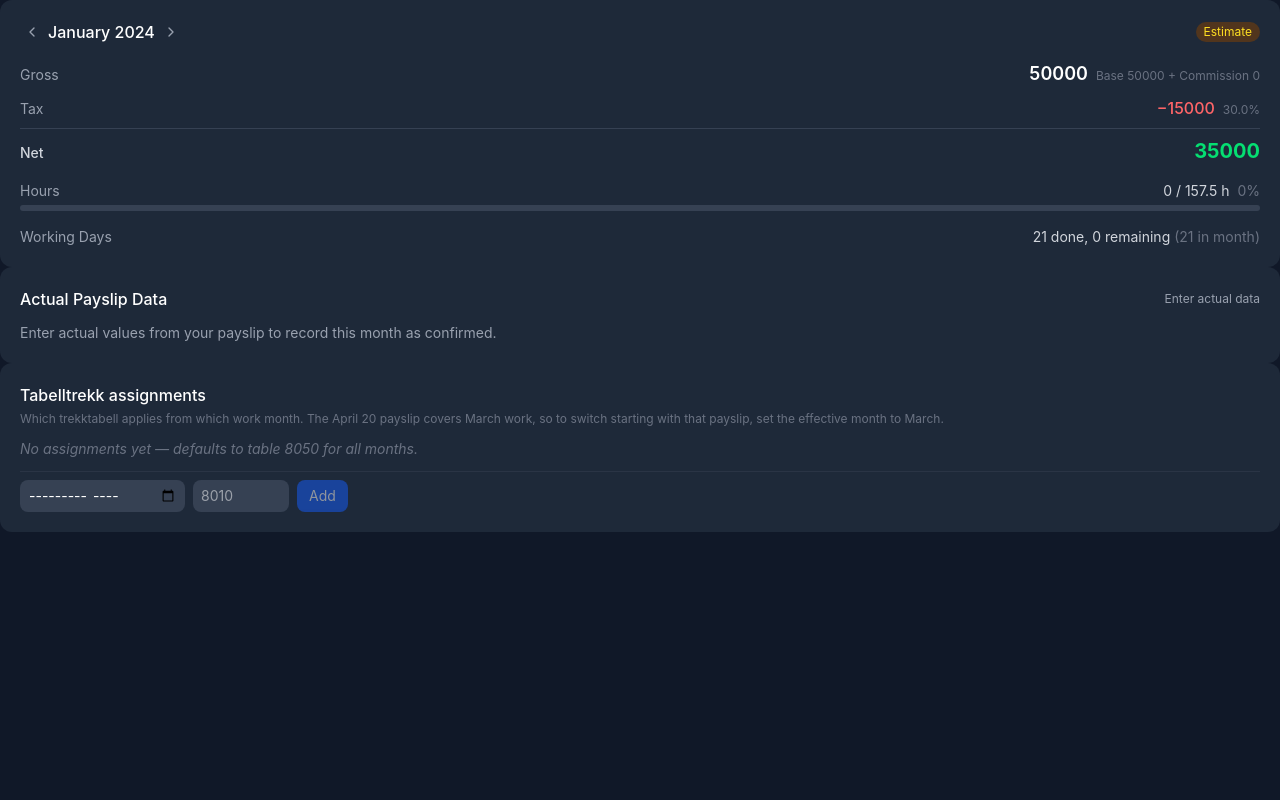
Test: MonthView override decimal input › blocks the save and shows an error for non-numeric input
This screenshot has width=1280, height=800.
Click the button "Enter actual data" at (1212,299), box left=1164, top=291, right=1260, bottom=307
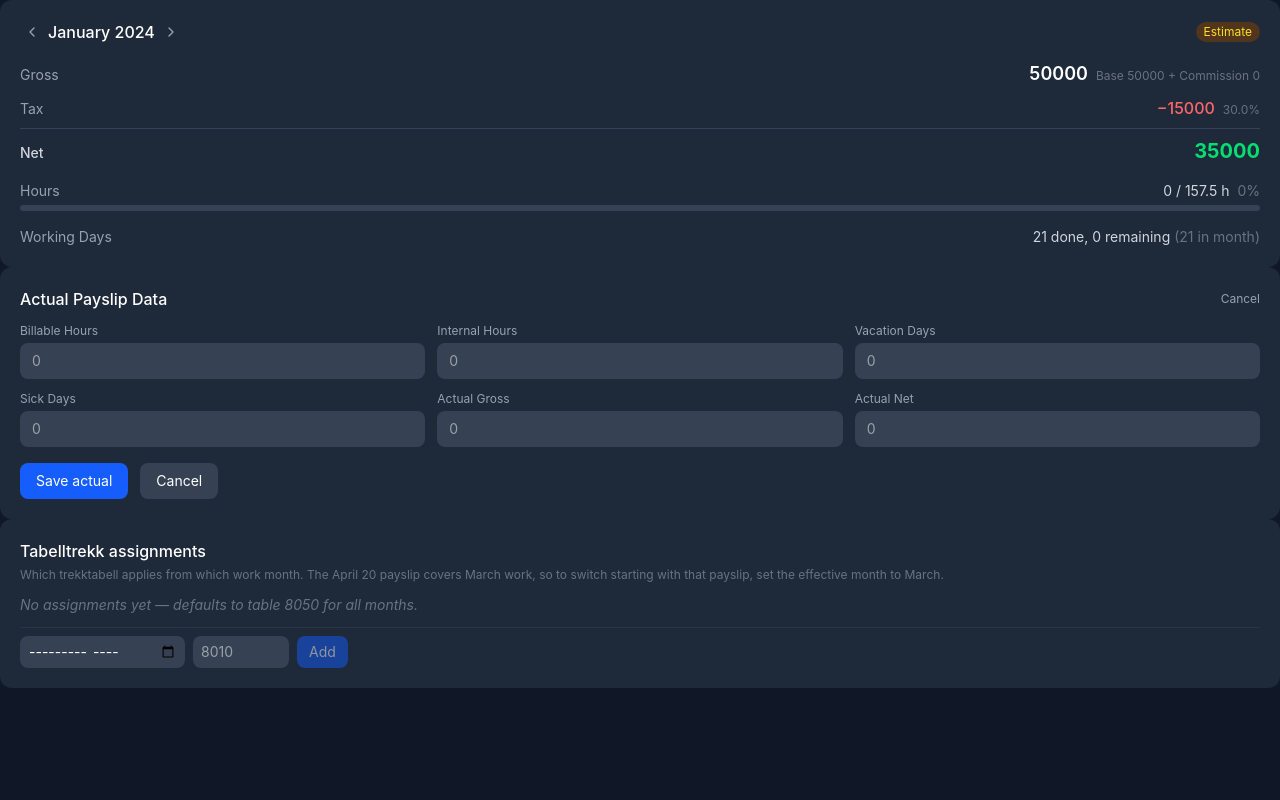
Type "7,5" into the field labelled "Billable Hours" at (223,361), box left=20, top=343, right=425, bottom=379
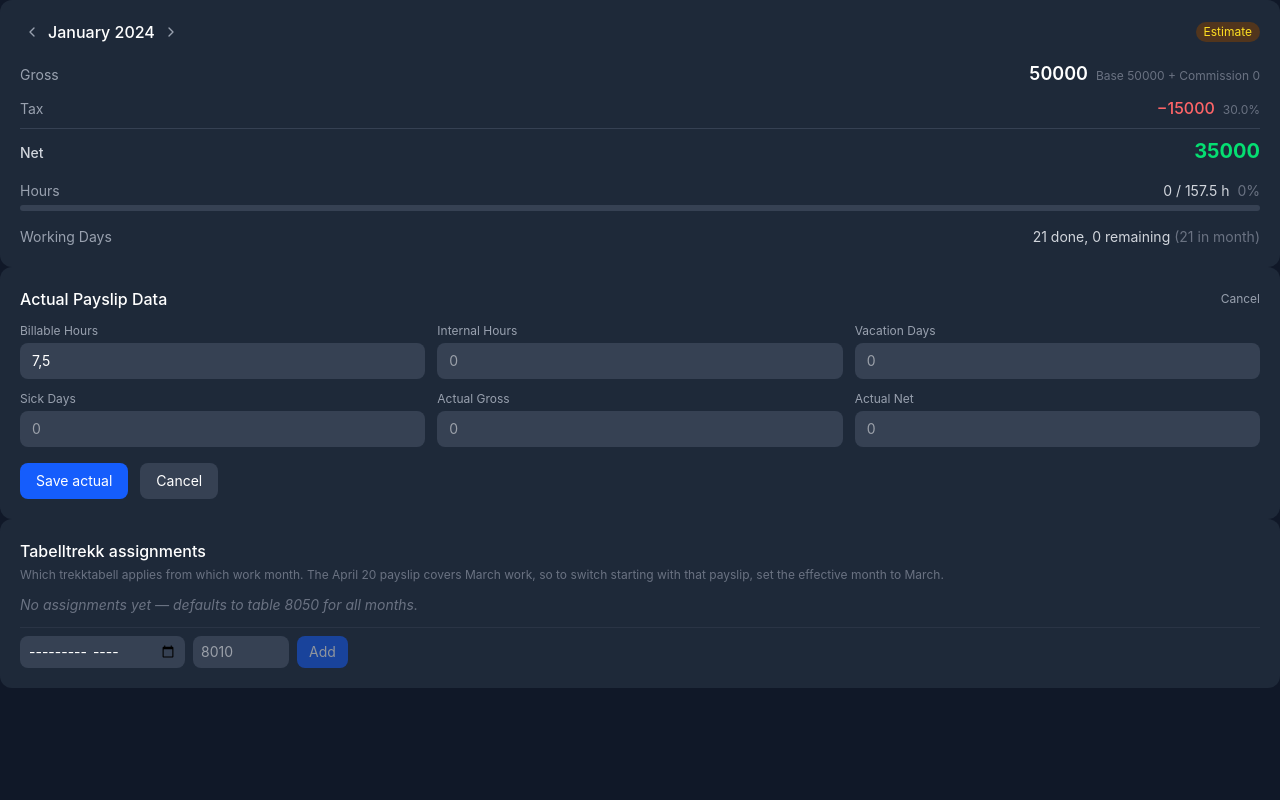
Type "abc" into the field labelled "Actual Gross" at (640,429), box left=437, top=411, right=843, bottom=447
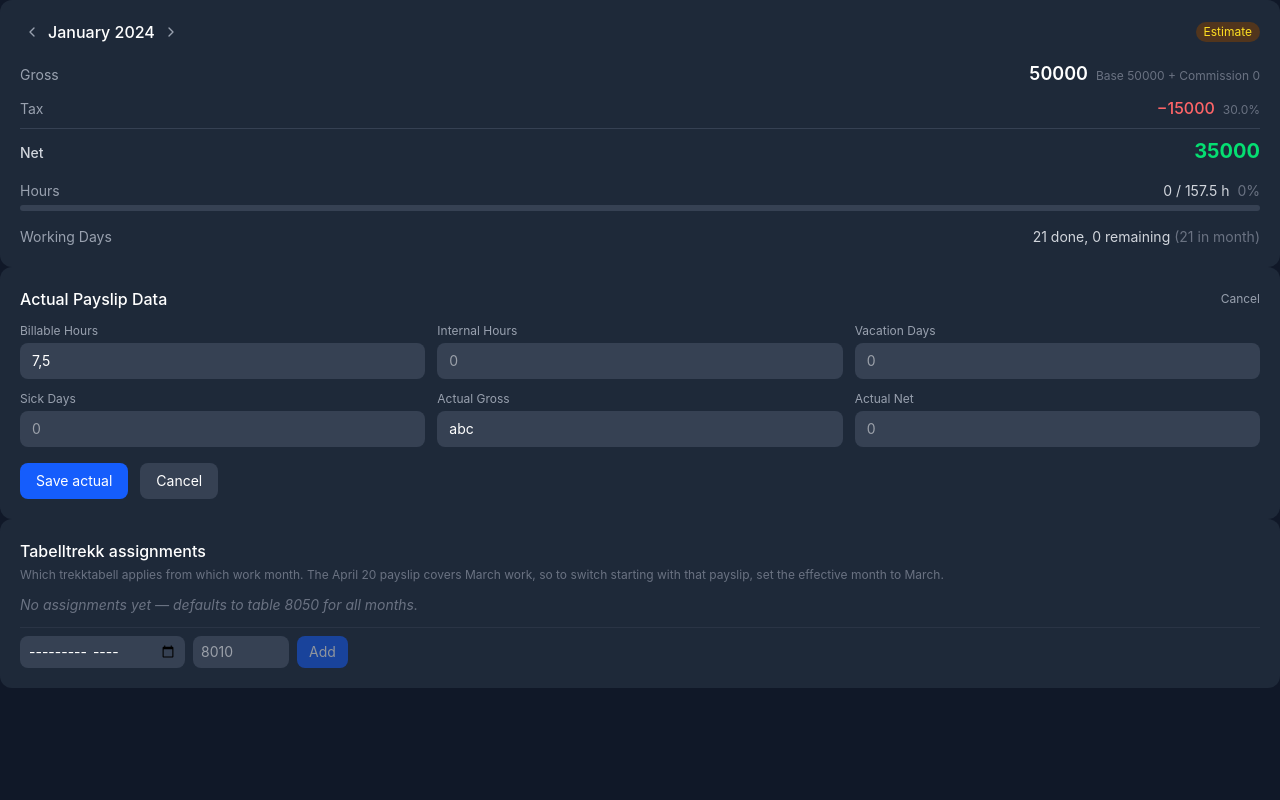
Type "1000" into the field labelled "Actual Net" at (1057,429), box left=855, top=411, right=1260, bottom=447
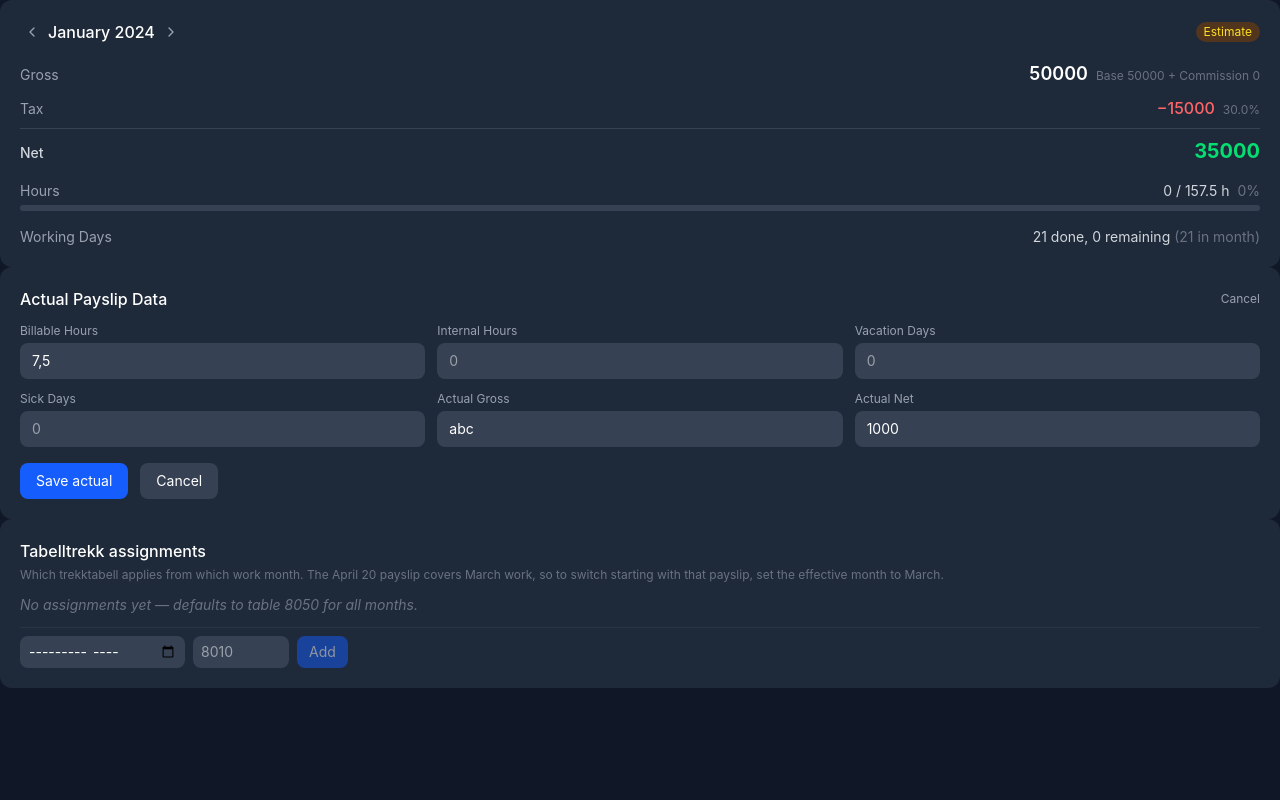
Click the button "Save actual" at (74,481), box left=20, top=463, right=128, bottom=499
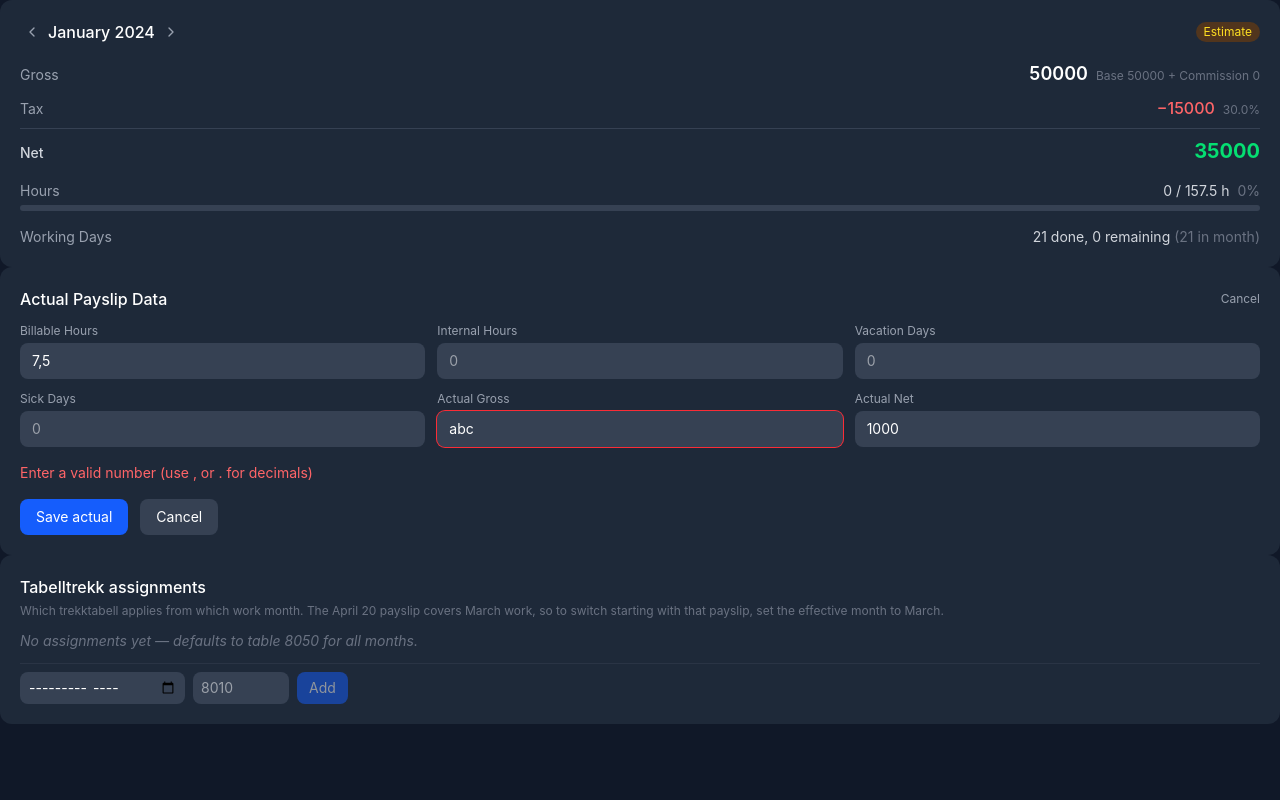
expect the text "Enter a valid number (use , or . for decimals)" is shown: met, box left=20, top=464, right=313, bottom=481
